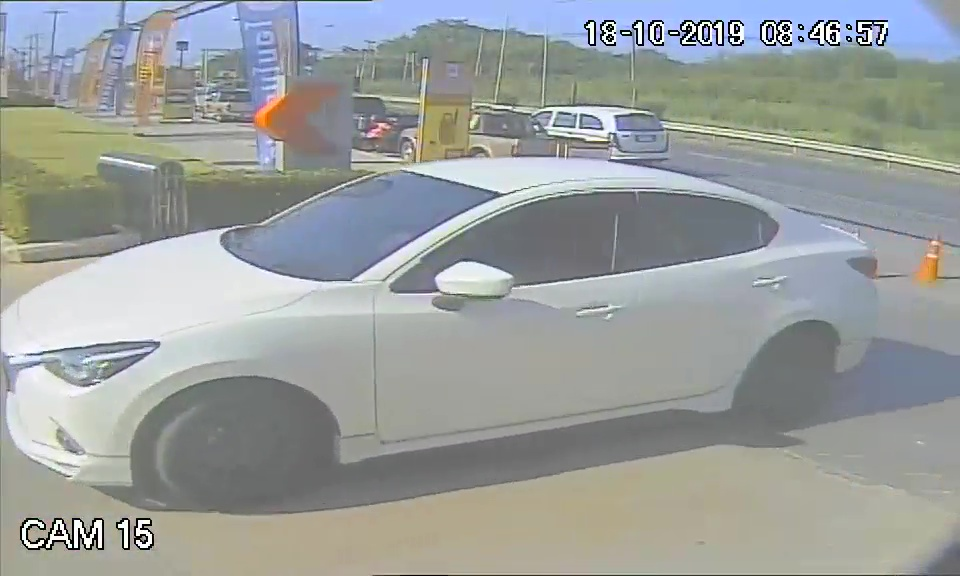sedan: (8, 151, 884, 503)
